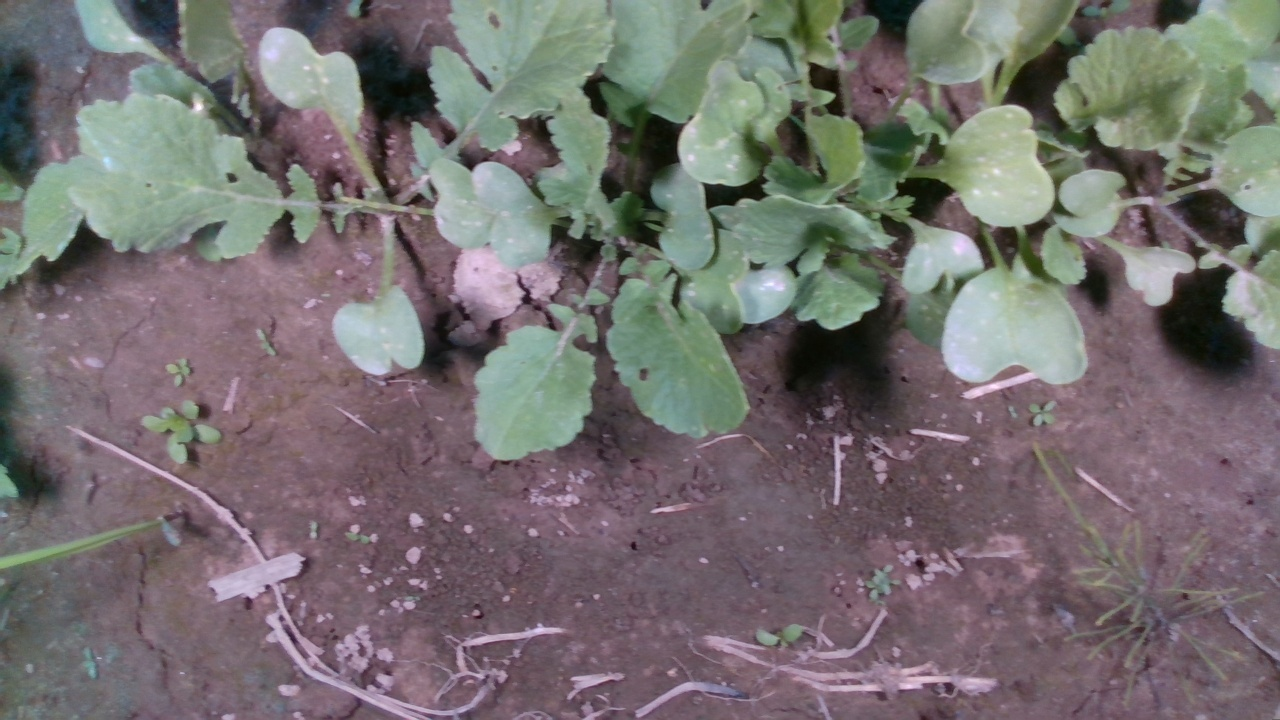weed: (160, 355, 193, 388), (1025, 398, 1061, 428), (252, 328, 279, 360)
